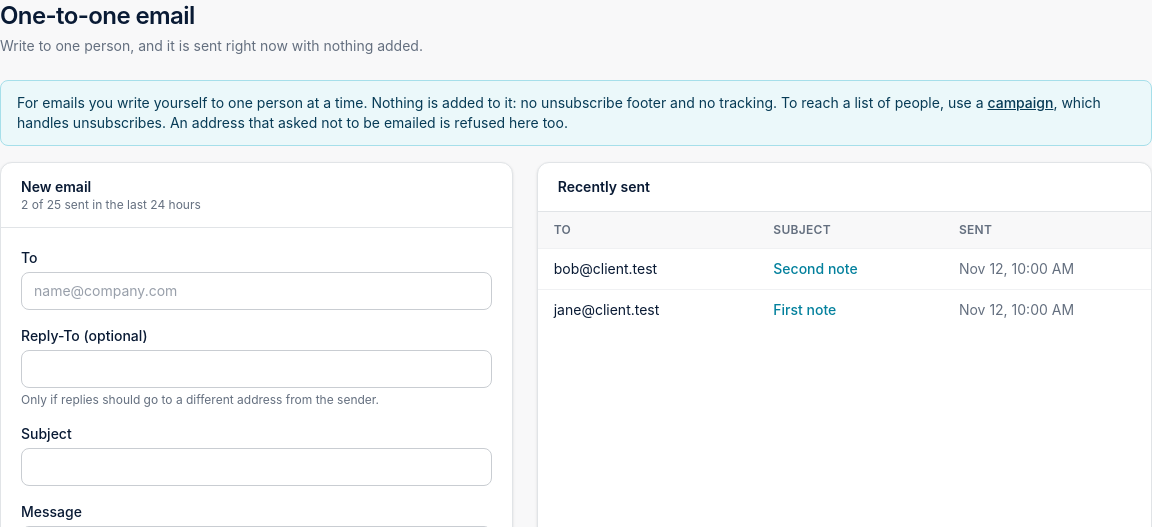
Test: One-to-one email page › opens a sent email to read it
The width and height of the screenshot is (1152, 527).
Click the button "Second note": click(815, 269) [773, 259, 858, 279]
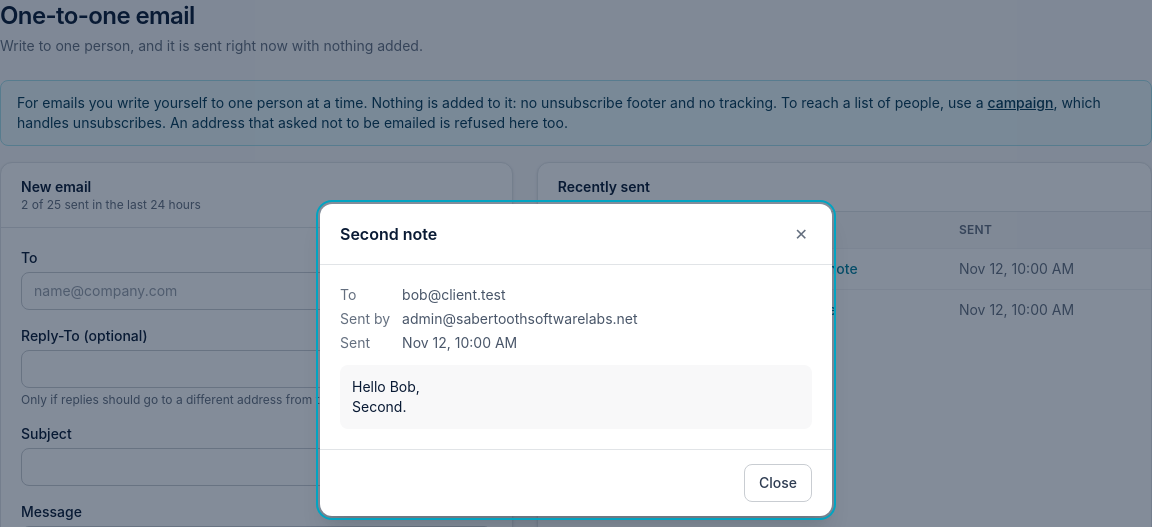
Expected: the text "bob@client.test" is shown, [402, 286, 506, 303]
Expected: the text "Hello Bob, Second." is shown, [340, 365, 812, 429]
